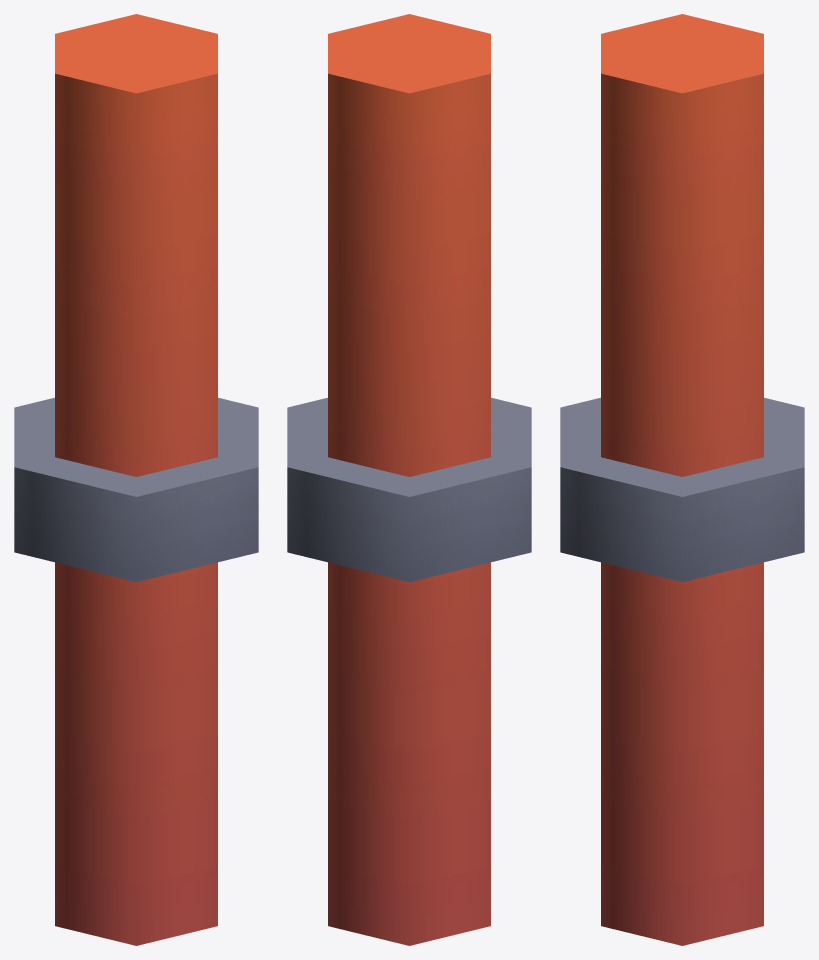
Rendered from pipe-section.glb.
3 views of the same model, side by side, from view 1: azimuth 30°, elevation 25°; view 2: azimuth 150°, elevation 25°; view 3: azimuth 270°, elevation 25° (orthographic).
Parts seen in each view (by area): view 1: pipe-section; view 2: pipe-section; view 3: pipe-section.
Part boxes in pixels (box(x1,y1,x2,y2)): pipe-section: box(14, 14, 258, 945); pipe-section: box(287, 14, 531, 945); pipe-section: box(560, 14, 804, 945).
Size of the model in its own units: 0.3 by 1 by 0.2598.
1 material, 1 textured.
